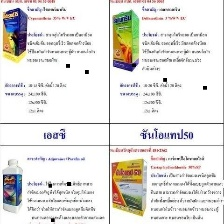book: (106, 156, 148, 218)
carton: (110, 8, 141, 73), (0, 5, 30, 66)
insecticide: (0, 158, 24, 216)
